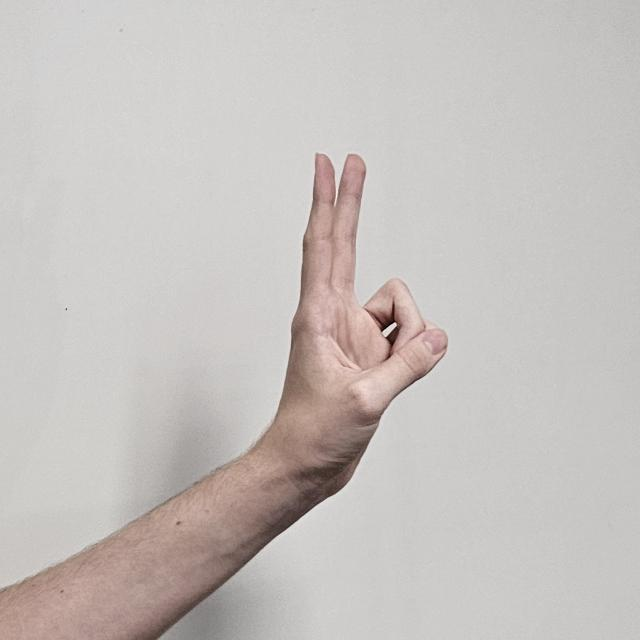Triangulo: (0, 154, 447, 640)
